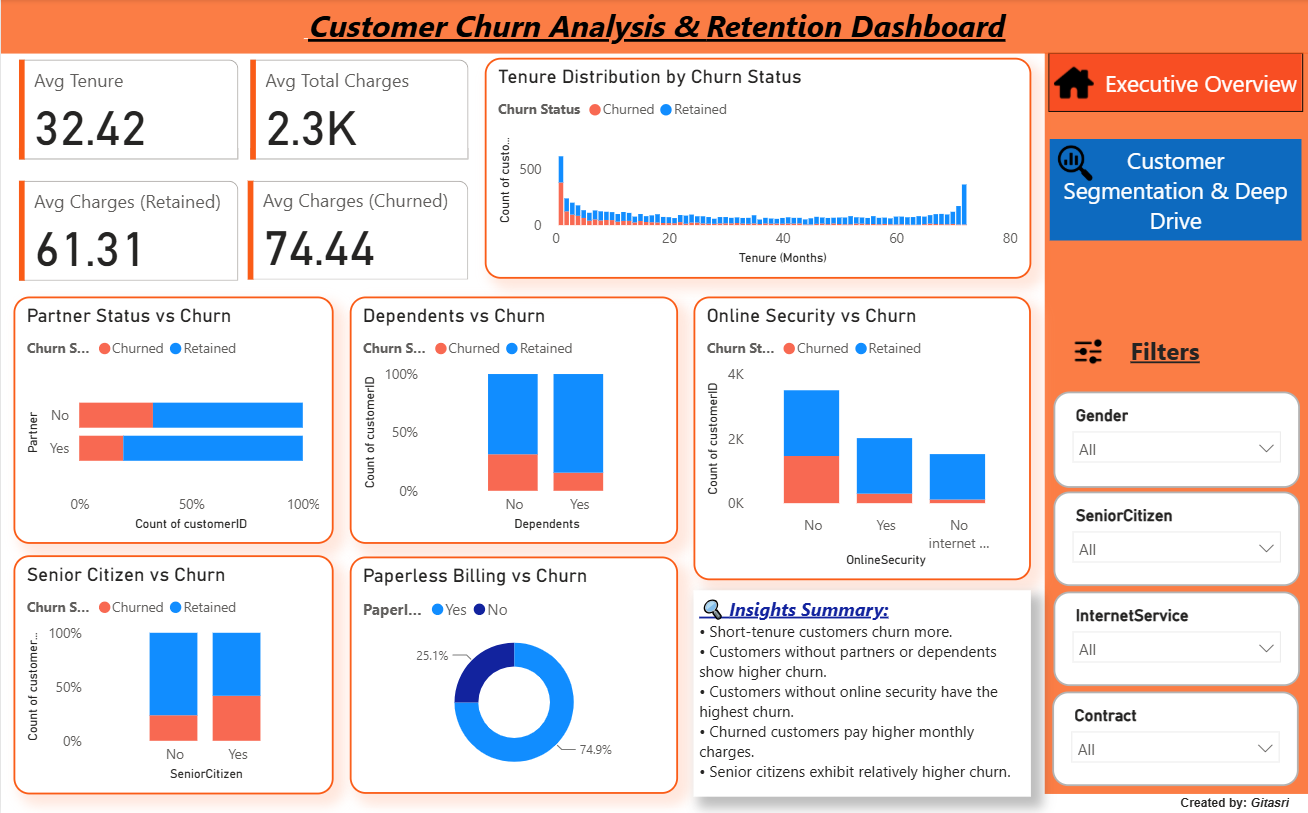

Layout of this report page (visuals, bound fields, positions):
{"tool":"powerbi","page":{"name":"Customer Segmentation & Deep Drive","canvas":[1150,720],"ordinal":1},"visuals":[{"type":"cardVisual","fields":{"Data":["Telco_Customer_Churn_Dataset.Avg Tenure"]},"box":[10.7,48.4,203,98.4],"z":1000},{"type":"hundredPercentStackedBarChart","title":"Partner Status vs Churn","fields":{"Category":["Telco_Customer_Churn_Dataset.Partner"],"Y":["Count(Telco_Customer_Churn_Dataset.customerID)"],"Series":["Telco_Customer_Churn_Dataset.Churn Status"]},"box":[11,261.7,281.5,217.7],"z":2000},{"type":"slicer","fields":{"Values":["Telco_Customer_Churn_Dataset.SeniorCitizen"]},"box":[926.3,433.1,216.6,83.5],"z":2000,"group":"g1"},{"type":"cardVisual","fields":{"Data":["Telco_Customer_Churn_Dataset.Avg Total Charges"]},"box":[214.3,48.2,202.4,98.8],"z":3000},{"type":"hundredPercentStackedColumnChart","title":"Dependents vs Churn","fields":{"Category":["Telco_Customer_Churn_Dataset.Dependents"],"Y":["Count(Telco_Customer_Churn_Dataset.customerID)"],"Series":["Telco_Customer_Churn_Dataset.Churn Status"]},"box":[306.8,261.7,289.2,217.7],"z":4000},{"type":"slicer","fields":{"Values":["Telco_Customer_Churn_Dataset.Contract"]},"box":[925,608.8,216.6,83.5],"z":4000,"group":"g1"},{"type":"columnChart","title":"Tenure Distribution by Churn Status","fields":{"Category":["Telco_Customer_Churn_Dataset.tenure (bins)"],"Y":["CountNonNull(Telco_Customer_Churn_Dataset.customerID)"],"Series":["Telco_Customer_Churn_Dataset.Churn Status"]},"box":[425,51.2,481,194],"z":5000},{"type":"donutChart","title":"Paperless Billing vs Churn","fields":{"Y":["Count(Telco_Customer_Churn_Dataset.customerID)"],"Category":["Telco_Customer_Churn_Dataset.PaperlessBilling"]},"box":[306.8,490.4,289.2,215.5],"z":6000},{"type":"slicer","fields":{"Values":["Telco_Customer_Churn_Dataset.InternetService"]},"box":[926.3,520.9,216.6,83.5],"z":7000,"group":"g1"},{"type":"textbox","box":[1032.1,691.7,106,28.6],"z":7000},{"type":"cardVisual","fields":{"Data":["Telco_Customer_Churn_Dataset.Avg Monthly Charges (Retained)"]},"box":[10.7,154.7,203,98.4],"z":8000},{"type":"shape","box":[917.9,47.6,232.1,652.4],"z":9000},{"type":"textbox","box":[988.1,289.3,89.3,41.7],"z":10000},{"type":"group","id":"g1","title":"Group 1","box":[925,345.2,217.9,346.4],"z":11000},{"type":"slicer","fields":{"Values":["Telco_Customer_Churn_Dataset.gender"]},"box":[926.3,345.2,216.6,84.6],"z":11000,"group":"g1"},{"type":"cardVisual","fields":{"Data":["Telco_Customer_Churn_Dataset.Avg Monthly Charges (Churned)"]},"box":[211.9,154.8,204.8,97.6],"z":12000},{"type":"actionButton","box":[921.4,47.6,223.8,52.4],"z":13000},{"type":"actionButton","box":[922.6,122.6,221.4,89.3],"z":14000},{"type":"hundredPercentStackedColumnChart","title":"Senior Citizen vs Churn","fields":{"Category":["Telco_Customer_Churn_Dataset.SeniorCitizen"],"Series":["Telco_Customer_Churn_Dataset.Churn Status"],"Y":["Count(Telco_Customer_Churn_Dataset.customerID)"]},"box":[11,489.3,281.5,212.2],"z":15000},{"type":"columnChart","title":"Online Security vs Churn","fields":{"Category":["Telco_Customer_Churn_Dataset.OnlineSecurity"],"Series":["Telco_Customer_Churn_Dataset.Churn Status"],"Y":["Count(Telco_Customer_Churn_Dataset.customerID)"]},"box":[609.2,261.7,296.9,249.6],"z":16000},{"type":"textbox","box":[609.2,520.1,296.9,181.4],"z":17000},{"type":"image","box":[938.1,292.9,36.9,35.7],"z":18000},{"type":"image","box":[922.9,123.1,44.6,42.2],"z":19000},{"type":"textbox","box":[0,0,1150,47.6],"z":20500}]}

Visuals, with their boxes in screenshot pixels (x1, y1, x2, y2), scaled from the page's 1150x720 canvas onto the 1308x813 screenshot:
cardVisual - Telco_Customer_Churn_Dataset.Avg Tenure: [12, 55, 243, 166]
"Partner Status vs Churn" hundredPercentStackedBarChart: [13, 296, 333, 541]
slicer - Telco_Customer_Churn_Dataset.SeniorCitizen: [1054, 489, 1300, 583]
cardVisual - Telco_Customer_Churn_Dataset.Avg Total Charges: [244, 54, 474, 166]
"Dependents vs Churn" hundredPercentStackedColumnChart: [349, 296, 678, 541]
slicer - Telco_Customer_Churn_Dataset.Contract: [1052, 687, 1298, 782]
"Tenure Distribution by Churn Status" columnChart: [483, 58, 1030, 277]
"Paperless Billing vs Churn" donutChart: [349, 554, 678, 797]
slicer - Telco_Customer_Churn_Dataset.InternetService: [1054, 588, 1300, 682]
textbox: [1174, 781, 1294, 812]
cardVisual - Telco_Customer_Churn_Dataset.Avg Monthly Charges (Retained): [12, 175, 243, 286]
shape: [1044, 54, 1307, 790]
textbox: [1124, 327, 1225, 374]
"Group 1" group: [1052, 390, 1300, 781]
slicer - Telco_Customer_Churn_Dataset.gender: [1054, 390, 1300, 485]
cardVisual - Telco_Customer_Churn_Dataset.Avg Monthly Charges (Churned): [241, 175, 474, 285]
actionButton: [1048, 54, 1303, 113]
actionButton: [1049, 138, 1301, 239]
"Senior Citizen vs Churn" hundredPercentStackedColumnChart: [13, 553, 333, 792]
"Online Security vs Churn" columnChart: [693, 296, 1031, 577]
textbox: [693, 587, 1031, 792]
image: [1067, 331, 1109, 371]
image: [1050, 139, 1100, 187]
textbox: [0, 0, 1307, 54]
